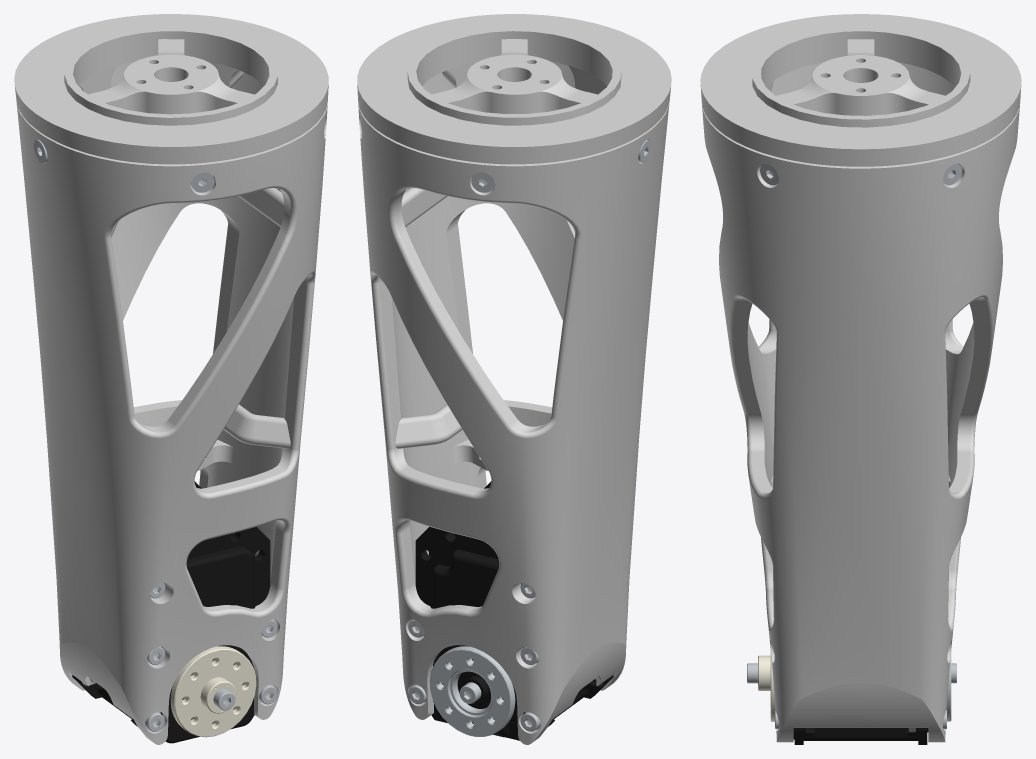
Rendered from wrist.dae.
3 renders of one model, left to right at view 1: azimuth 30°, elevation 25°; view 2: azimuth 150°, elevation 25°; view 3: azimuth 270°, elevation 25°, orthographic.
Visible parts, largest first — view 1: wrist, wrist_yaw_interface, MX28_body, MX28_horn, screws; view 2: wrist, wrist_yaw_interface, MX28_body, MX28_free_horn, screws; view 3: wrist, wrist_yaw_interface, MX28_body, screws, MX28_horn.
Part boxes in pixels (x1,y1,x2,y2): wrist: (16,61,327,744); wrist_yaw_interface: (14,14,328,164); MX28_body: (72,481,270,743); MX28_horn: (170,646,256,737); screws: (33,139,277,731); wrist: (358,61,669,744); wrist_yaw_interface: (357,14,671,164); MX28_body: (415,481,613,740); MX28_free_horn: (429,646,515,736); screws: (408,139,652,731); wrist: (701,62,1020,742); wrist_yaw_interface: (700,14,1021,166); MX28_body: (793,728,928,744); screws: (760,163,961,731); MX28_horn: (758,652,775,721).
Size of the model in its own units: 0.0726 by 0.0728 by 0.162.
